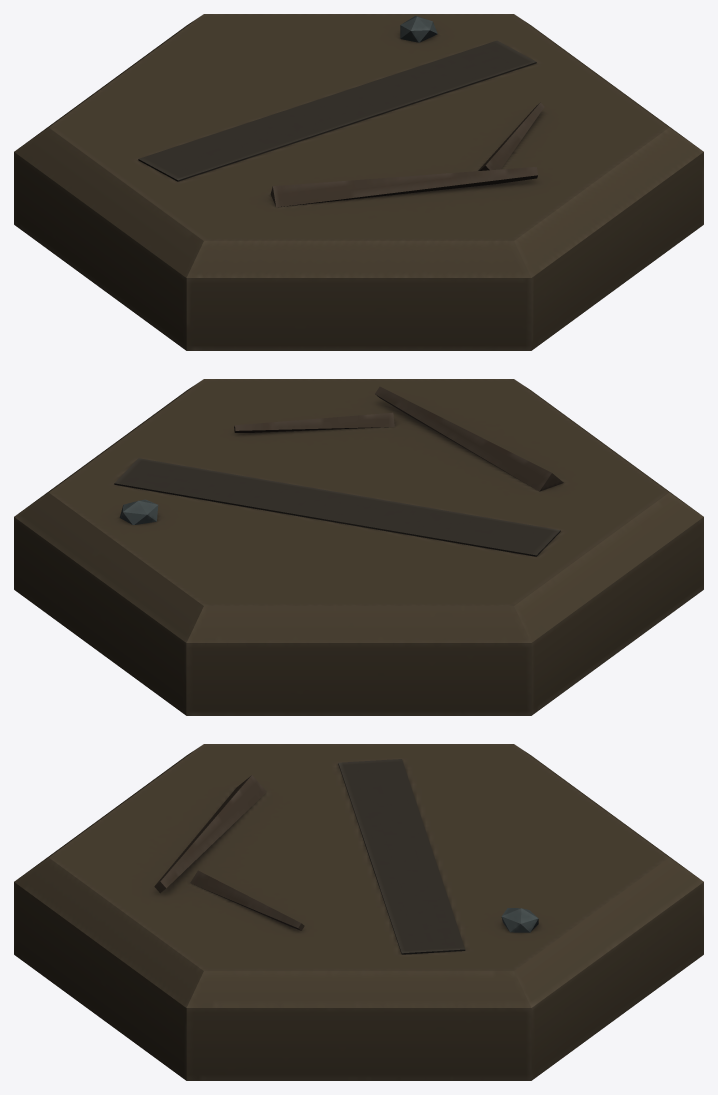
Rendered from tile_hex_mud_b.glb.
3 views of the same model, one above another, from view 1: azimuth 30°, elevation 25°; view 2: azimuth 150°, elevation 25°; view 3: azimuth 270°, elevation 25° (orthographic).
Parts seen in each view (by area): view 1: tile_hex_mud_b; view 2: tile_hex_mud_b; view 3: tile_hex_mud_b.
Part boxes in pixels (x1,y1,x2,y2): tile_hex_mud_b: (14,14,703,350); tile_hex_mud_b: (14,379,703,715); tile_hex_mud_b: (14,744,703,1080).
Bounding box in the file's own units: 1.12 × 0.2357 × 1.29.
Materials: 1 (1 with a texture image).
